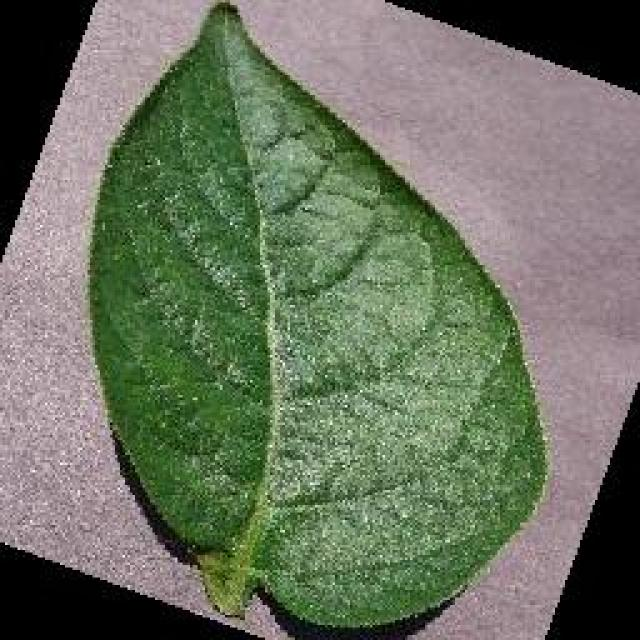Potato___healthy: (86, 0, 553, 630)
